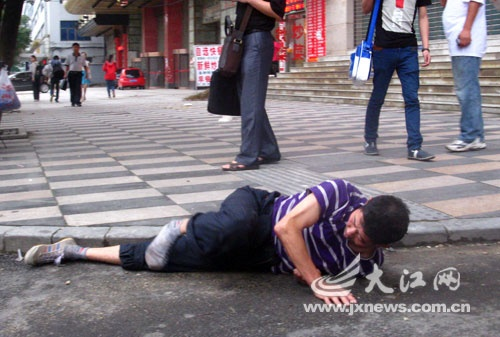falling: (21, 172, 417, 302)
